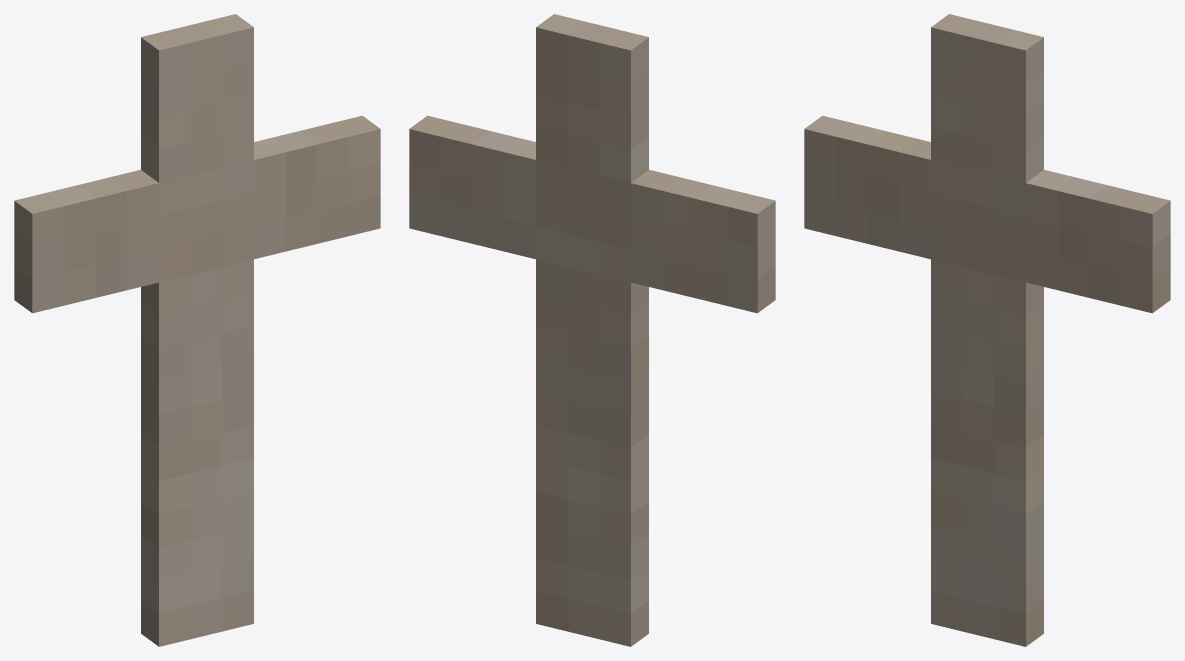
File: wooden_cross.gltf
3 renders of one model, left to right at view 1: azimuth 30°, elevation 25°; view 2: azimuth 150°, elevation 25°; view 3: azimuth 330°, elevation 25°, orthographic.
Visible parts, largest first — view 1: cross; view 2: cross; view 3: cross.
Boxes of the visible parts, <box> form: cross: <box>14,14,380,646</box>; cross: <box>409,14,775,646</box>; cross: <box>804,14,1170,646</box>.
Bounding box in the file's own units: 0.6875 × 1.12 × 0.0625.
Materials: 1 (1 with a texture image).
